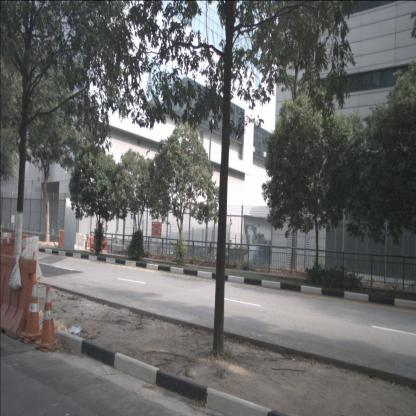barrier: (0, 253, 38, 342), (20, 235, 42, 281), (73, 232, 86, 251), (96, 237, 108, 253), (88, 234, 100, 250), (57, 230, 67, 248)
cone: (34, 284, 61, 352), (19, 280, 46, 344), (28, 251, 39, 283), (86, 240, 88, 250)
